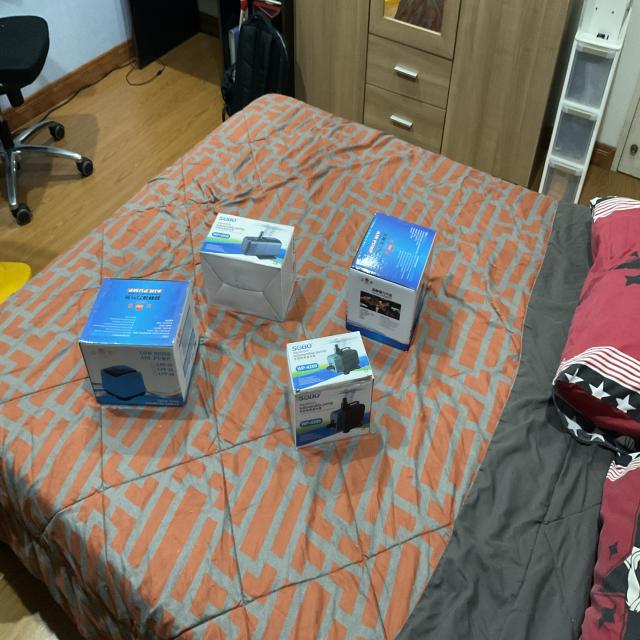SOBO_WP_4200: (278, 322, 394, 449), (197, 187, 299, 324)
YAMANO_LPP_20: (71, 253, 199, 416), (339, 184, 444, 344)
